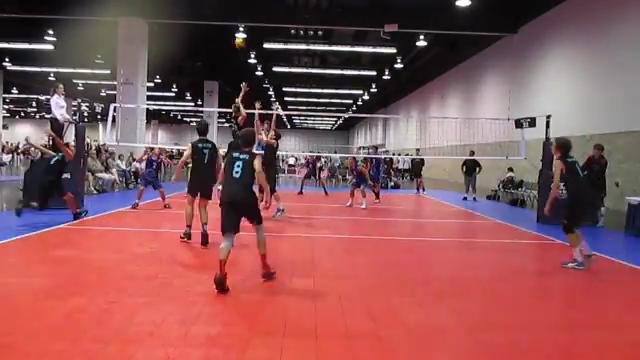alzata: (255, 103, 292, 220)
attacco: (223, 79, 250, 138)
